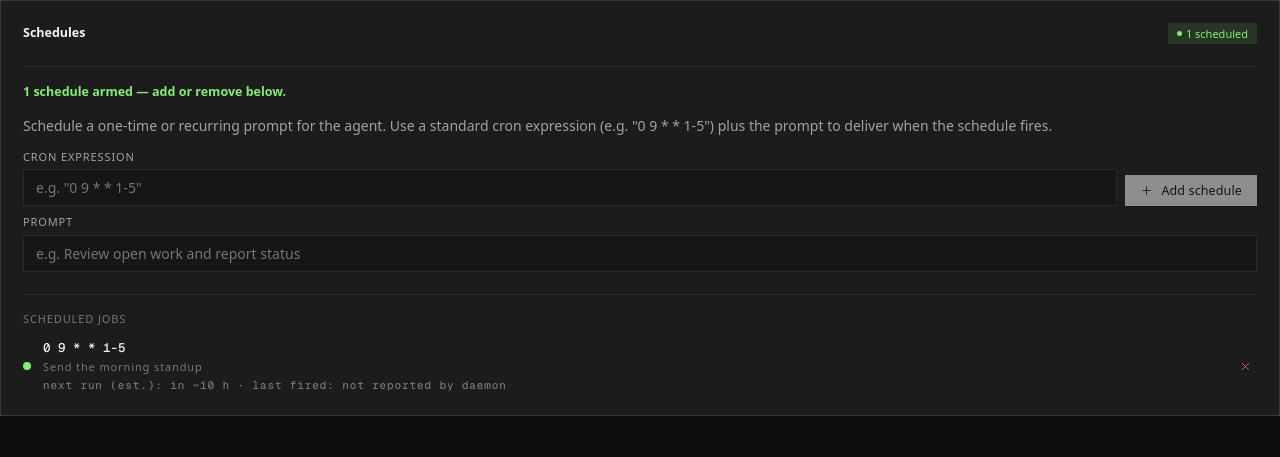
Test case: SchedulesPanel › removes a schedule via removeSchedule
Click the button named "remove schedule": [1246, 366] box [1234,355,1257,378]
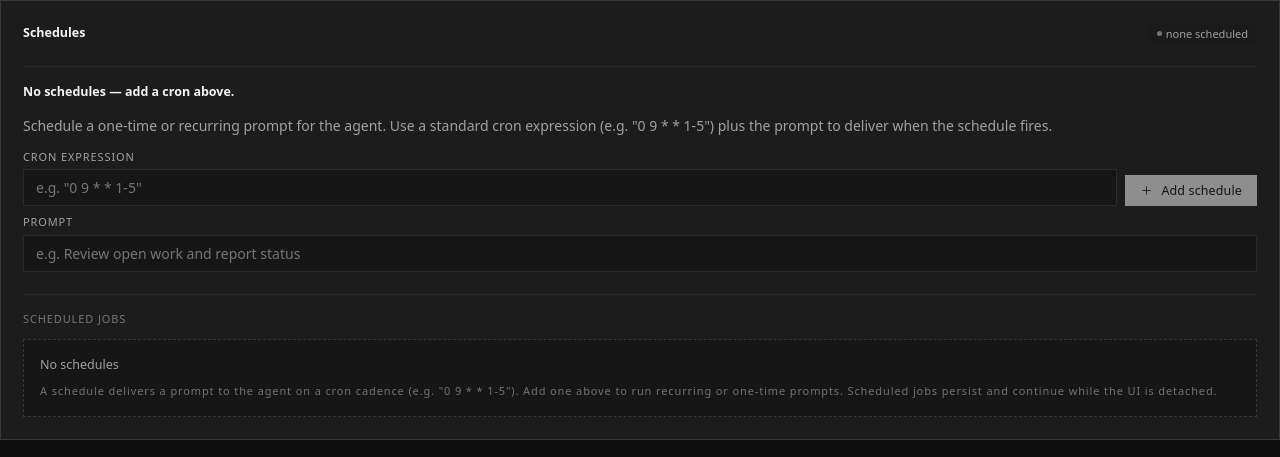
Expected: the text "none scheduled" is shown, [1148,23,1257,44]
